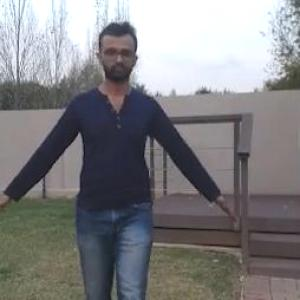land: (9, 22, 214, 299)
